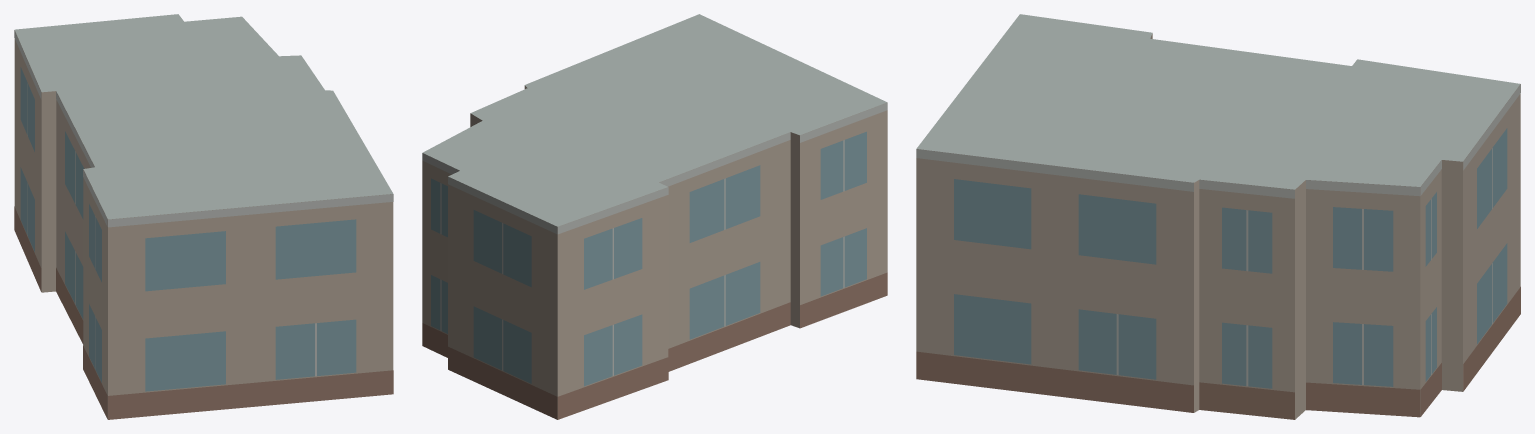
The model's file is survey-upis-32457088.glb.
3 renders of one model, left to right at view 1: azimuth 30°, elevation 25°; view 2: azimuth 150°, elevation 25°; view 3: azimuth 270°, elevation 25°, orthographic. The views are drawn at different scales.
Parts seen in each view (by area): view 1: survey-upis-32457088.tmp; view 2: survey-upis-32457088.tmp; view 3: survey-upis-32457088.tmp.
Part boxes in pixels (x1=…): survey-upis-32457088.tmp: x1=14, y1=14, x2=393, y2=419; survey-upis-32457088.tmp: x1=422, y1=14, x2=887, y2=419; survey-upis-32457088.tmp: x1=916, y1=14, x2=1520, y2=419.
Size of the model in its own units: 9.99 by 6.1 by 14.52.
